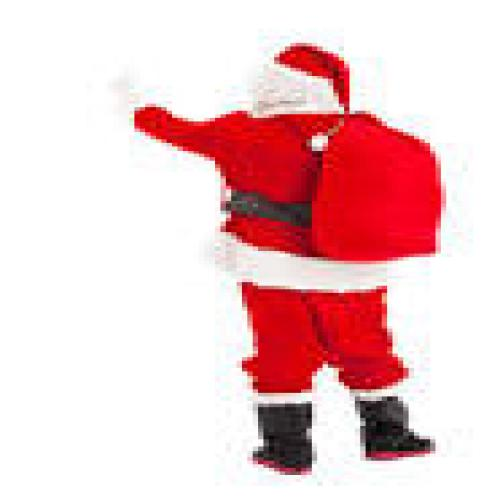Santa: (111, 42, 440, 481)
